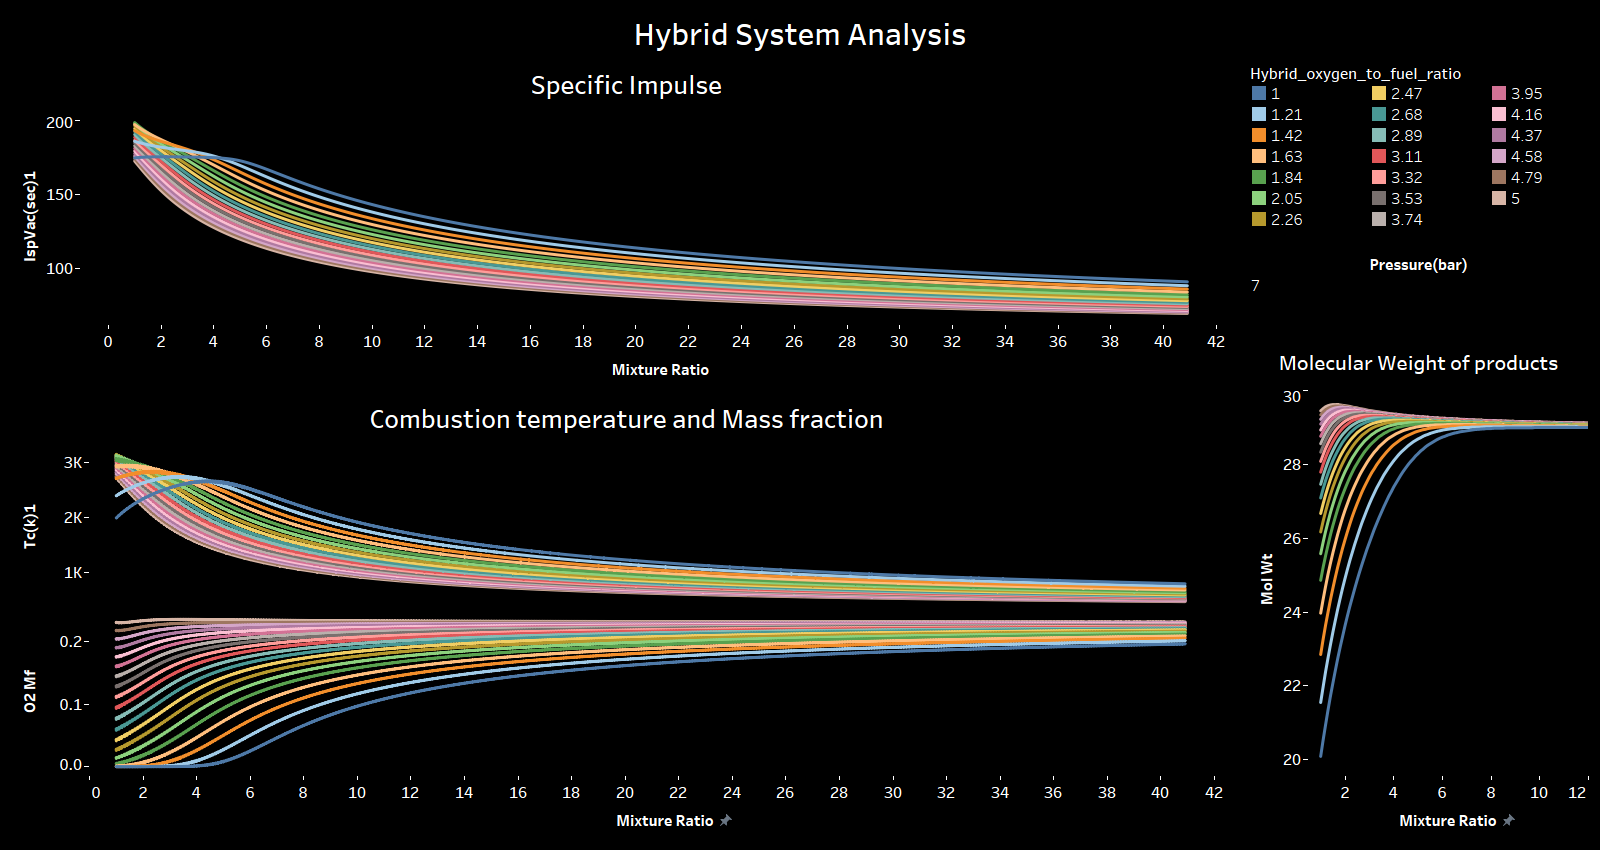

What the dashboard file says about the page in this screenshot:
{"tool":"tableau","page":{"name":"Hybrid analysis","canvas":[1600,850],"ordinal":0},"visuals":[{"type":"title","box":[8,8,1584,49]},{"type":"worksheet","title":"IsoVac vs MR","mark":"Line","rows":["IspVac(sec)"],"cols":["MixtureRatio"],"box":[8,57,1237,392.5]},{"type":"legend","title":"Tc and O2 Mf","param":"[federated.1t8led708yaxvx1cnxyzv1bagn95].[none:H_o_f:ok]","box":[1245,57,347,192]},{"type":"filter","title":"IsoVac vs MR","param":"[federated.1t8led708yaxvx1cnxyzv1bagn95].[none:Pc(bar):ok]","box":[1245,249,347,89]},{"type":"worksheet","title":"Mol Wt vs MR","mark":"Line","rows":["MolWt"],"cols":["MixtureRatio"],"box":[1245,338,347,504]},{"type":"worksheet","title":"Tc and O2 Mf","mark":"Line","rows":["Tc(k)","O2_MF"],"cols":["MixtureRatio"],"box":[8,449.5,1237,392.5]}]}

Visuals, with their boxes in screenshot pixels (x1, y1, x2, y2), scaled from the page's 1600x850 canvas onto the 1600x850 screenshot:
title: region(8, 8, 1592, 57)
"IsoVac vs MR" worksheet (Line marks): region(8, 57, 1245, 450)
"Tc and O2 Mf" legend: region(1245, 57, 1592, 249)
"IsoVac vs MR" filter: region(1245, 249, 1592, 338)
"Mol Wt vs MR" worksheet (Line marks): region(1245, 338, 1592, 842)
"Tc and O2 Mf" worksheet (Line marks): region(8, 450, 1245, 842)
